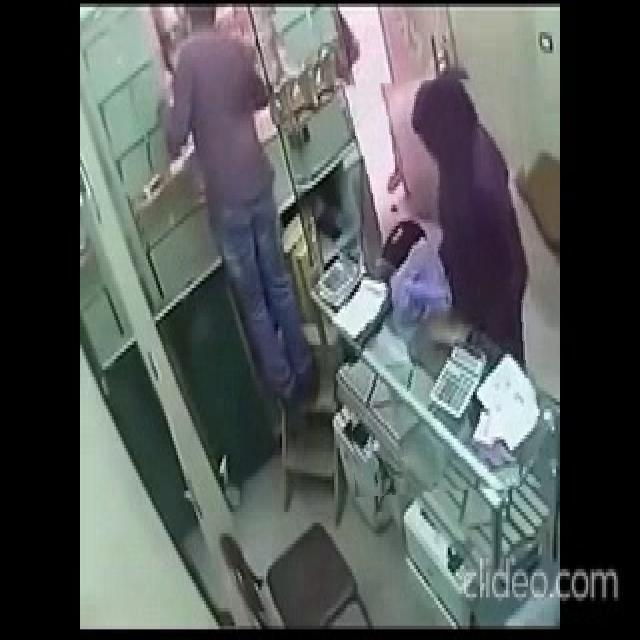Shoplifting: (340, 79, 536, 495)
